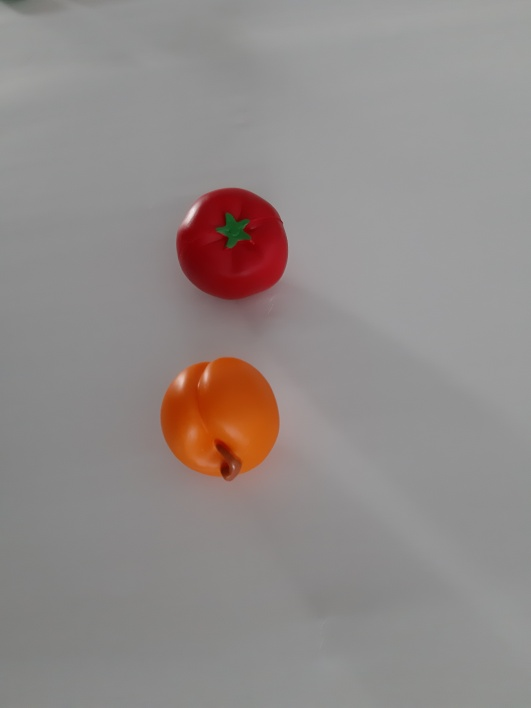apricot: (139, 349, 297, 495)
tomato: (157, 174, 314, 322)
